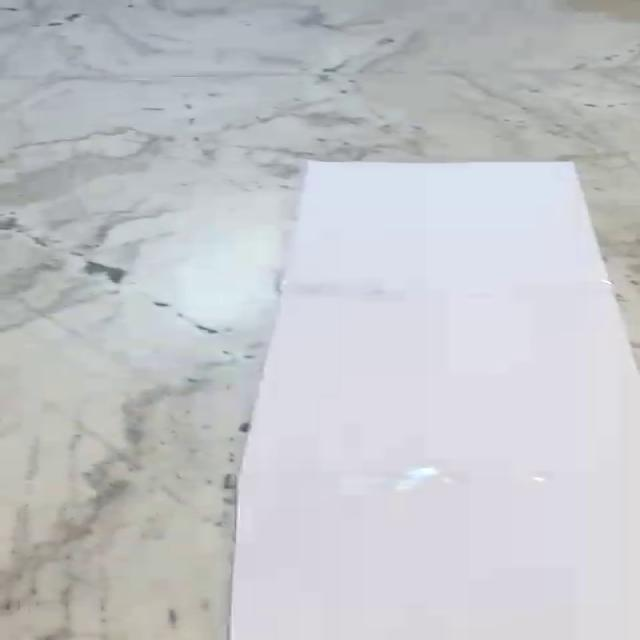road: (229, 160, 640, 640)
